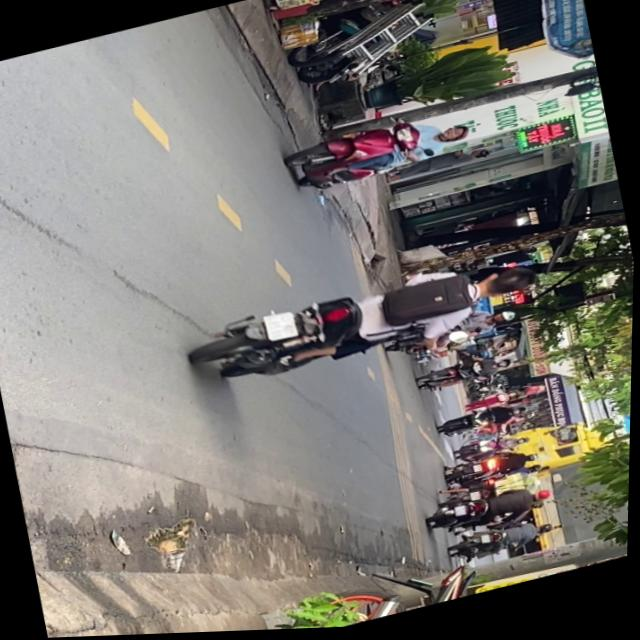helmet: (437, 123, 475, 148)
licenseplate: (185, 244, 548, 401), (282, 101, 482, 202)
motorcyclist: (474, 263, 541, 307)
nohelmet: (264, 311, 299, 344)
